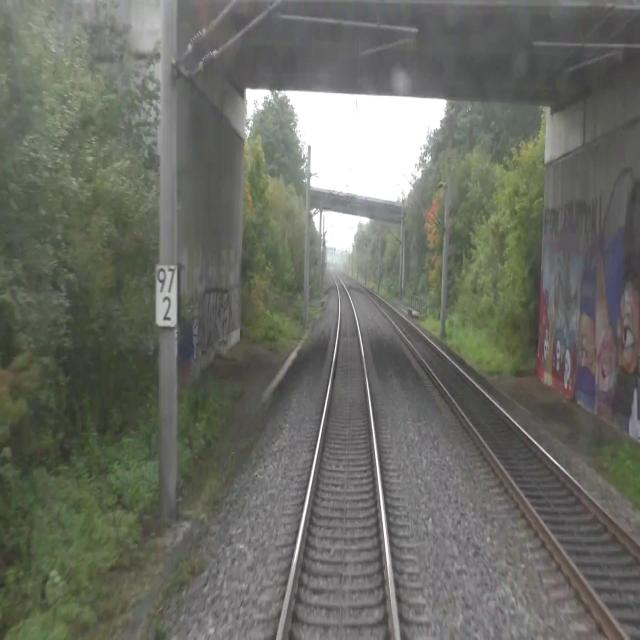rail-track: (365, 289, 640, 639), (280, 274, 394, 639)
